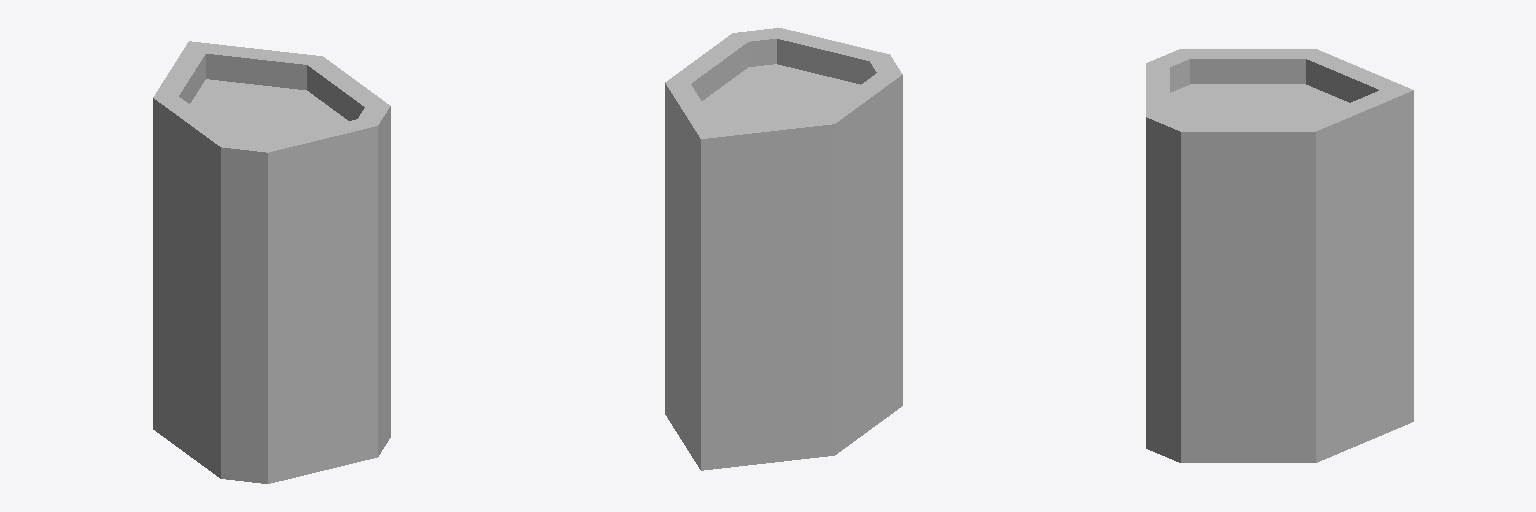
File: unit.obj
3 renders of one model, left to right at view 1: azimuth 30°, elevation 25°; view 2: azimuth 150°, elevation 25°; view 3: azimuth 270°, elevation 25°, orthographic.
Visible parts, largest first — view 1: Mesh1_Model.001; view 2: Mesh1_Model.001; view 3: Mesh1_Model.001.
Part boxes in pixels (bbox=[...]): Mesh1_Model.001: bbox=[153, 41, 390, 483]; Mesh1_Model.001: bbox=[665, 28, 902, 470]; Mesh1_Model.001: bbox=[1146, 49, 1413, 462].
Bounding box in the file's own units: 0.2092 × 0.39 × 0.2858.